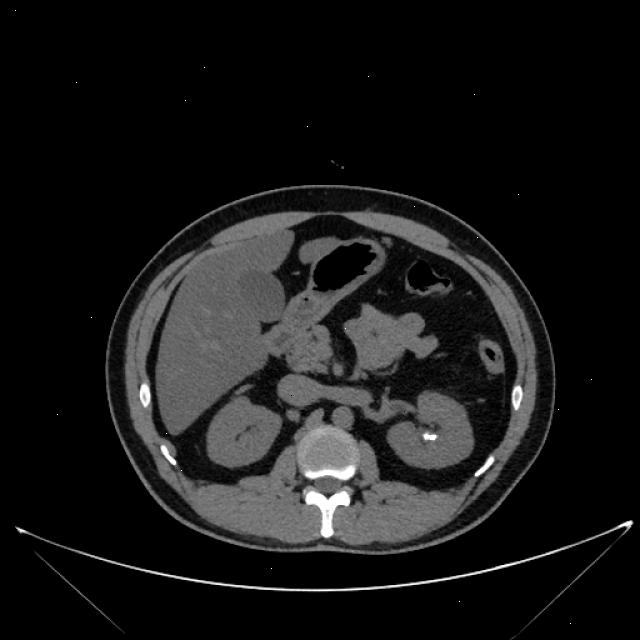kidneystone: (422, 434, 436, 441)
